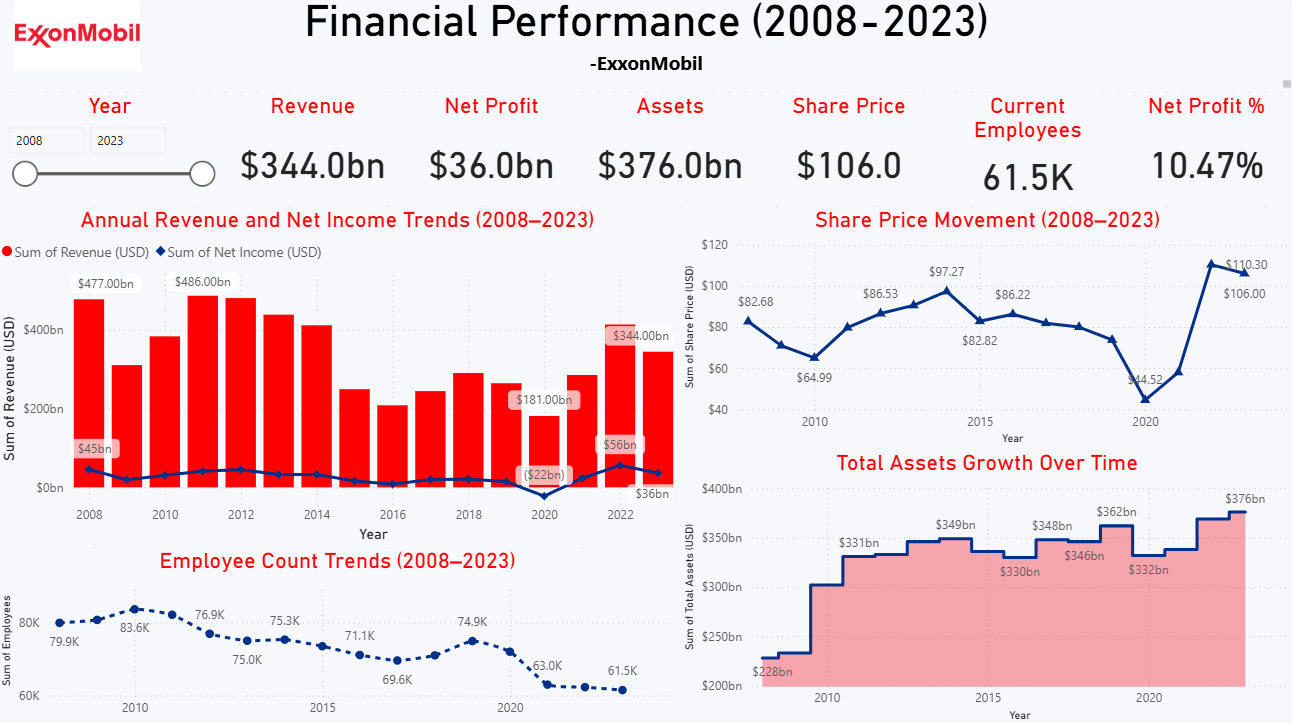

The page's visual inventory and layout, read from the dashboard file:
{"tool":"powerbi","page":{"name":"Page 1","canvas":[1280,720],"ordinal":0},"visuals":[{"type":"textbox","title":"Financial Performance (2008-2023)","box":[0,0,1280,96],"z":0},{"type":"card","title":"Revenue","fields":{"Values":["Fin.Latest Revenue"]},"box":[224,96,176,112],"z":1000},{"type":"card","title":"Net Profit","fields":{"Values":["Fin.Latest Net Income"]},"box":[400,96,176,112],"z":2000},{"type":"card","title":"Assets","fields":{"Values":["Fin.Latest Assests"]},"box":[576,96,176,112],"z":3000},{"type":"card","title":"Current Employees","fields":{"Values":["Fin.Latest Employees"]},"box":[928,96,176,112],"z":4000},{"type":"card","title":"Net Profit %","fields":{"Values":["Fin.Profit Margin"]},"box":[1104,96,176,112],"z":5000},{"type":"card","title":"Share Price","fields":{"Values":["Fin.Latest SharePrice"]},"box":[752,96,176,112],"z":6000},{"type":"slicer","title":"Year","fields":{"Values":["Fin.Year"]},"box":[0,96,224,112],"z":7000},{"type":"lineClusteredColumnComboChart","title":"Annual Revenue and Net Income Trends (2008–2023)","fields":{"Category":["Fin.Year"],"Y":["Sum(Fin.Revenue (USD))"],"Y2":["Sum(Fin.Net Income (USD))"]},"box":[0,208,672,336],"z":8000},{"type":"lineChart","title":"Share Price Movement (2008–2023)","fields":{"Y":["Sum(Fin.Share Price (USD))"],"Category":["Fin.Year"]},"box":[672,208,608,240],"z":9000},{"type":"areaChart","title":"Total Assets Growth Over Time","fields":{"Category":["Fin.Year"],"Y":["Sum(Fin.Total Assets (USD))"]},"box":[672,448,608,272],"z":10000},{"type":"lineChart","title":"Employee Count Trends (2008–2023)","fields":{"Category":["Fin.Year"],"Y":["Sum(Fin.Employees)"]},"box":[0,544,672,176],"z":11000},{"type":"image","box":[0,0,160,80],"z":12000}]}

Visuals, with their boxes in screenshot pixels (x1, y1, x2, y2), scaled from the page's 1280x720 canvas onto the 1292x723 screenshot:
"Financial Performance (2008-2023)" textbox: 0,0,1291,96
"Revenue" card: 226,96,404,209
"Net Profit" card: 404,96,581,209
"Assets" card: 581,96,759,209
"Current Employees" card: 937,96,1114,209
"Net Profit %" card: 1114,96,1291,209
"Share Price" card: 759,96,937,209
"Year" slicer: 0,96,226,209
"Annual Revenue and Net Income Trends (2008–2023)" lineClusteredColumnComboChart: 0,209,678,546
"Share Price Movement (2008–2023)" lineChart: 678,209,1291,450
"Total Assets Growth Over Time" areaChart: 678,450,1291,722
"Employee Count Trends (2008–2023)" lineChart: 0,546,678,722
image: 0,0,162,80
